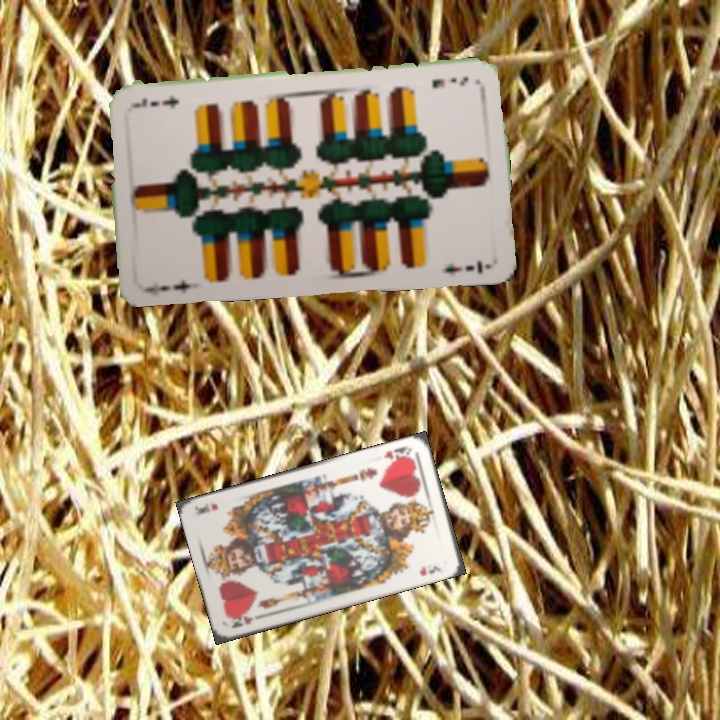E7: (155, 276, 194, 296), (428, 73, 471, 91)
HK: (227, 610, 266, 631), (379, 442, 414, 464)
